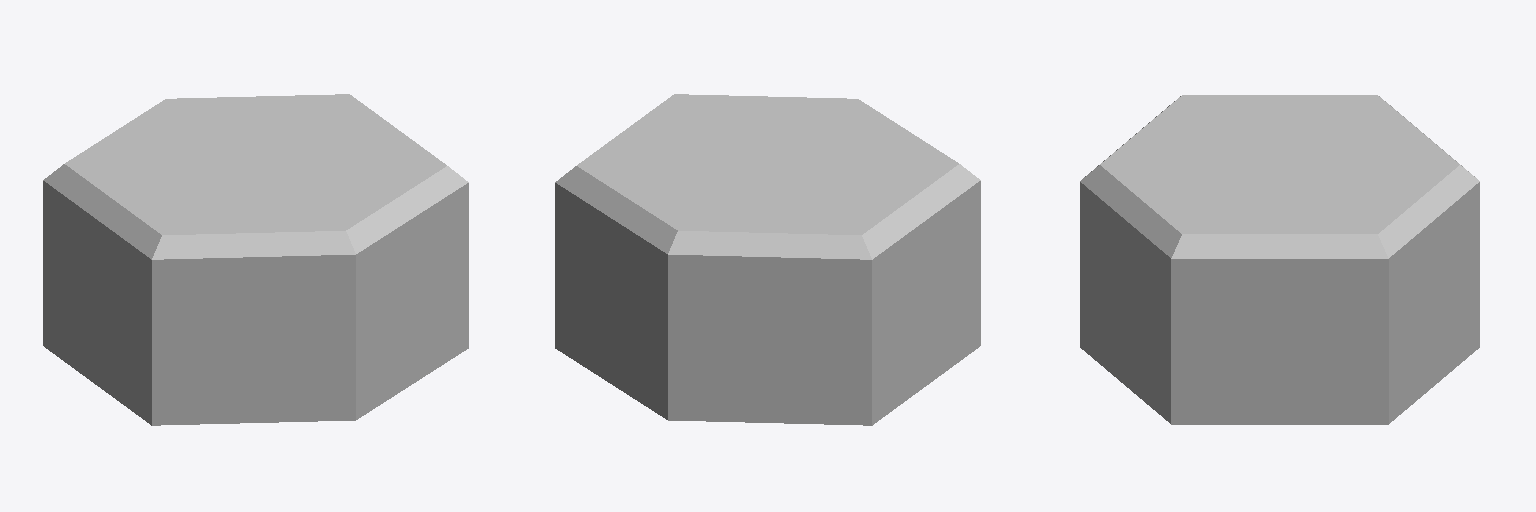
Rendered from hexagon.obj.
3 views of the same model, side by side, from view 1: azimuth 30°, elevation 25°; view 2: azimuth 150°, elevation 25°; view 3: azimuth 270°, elevation 25° (orthographic).
Parts seen in each view (by area): view 1: Cube_Cube.001; view 2: Cube_Cube.001; view 3: Cube_Cube.001.
Boxes of the visible parts, <box> form: Cube_Cube.001: <box>43,94,468,425</box>; Cube_Cube.001: <box>555,94,980,425</box>; Cube_Cube.001: <box>1080,95,1479,424</box>.
Size of the model in its own units: 2 by 1.1 by 2.19.